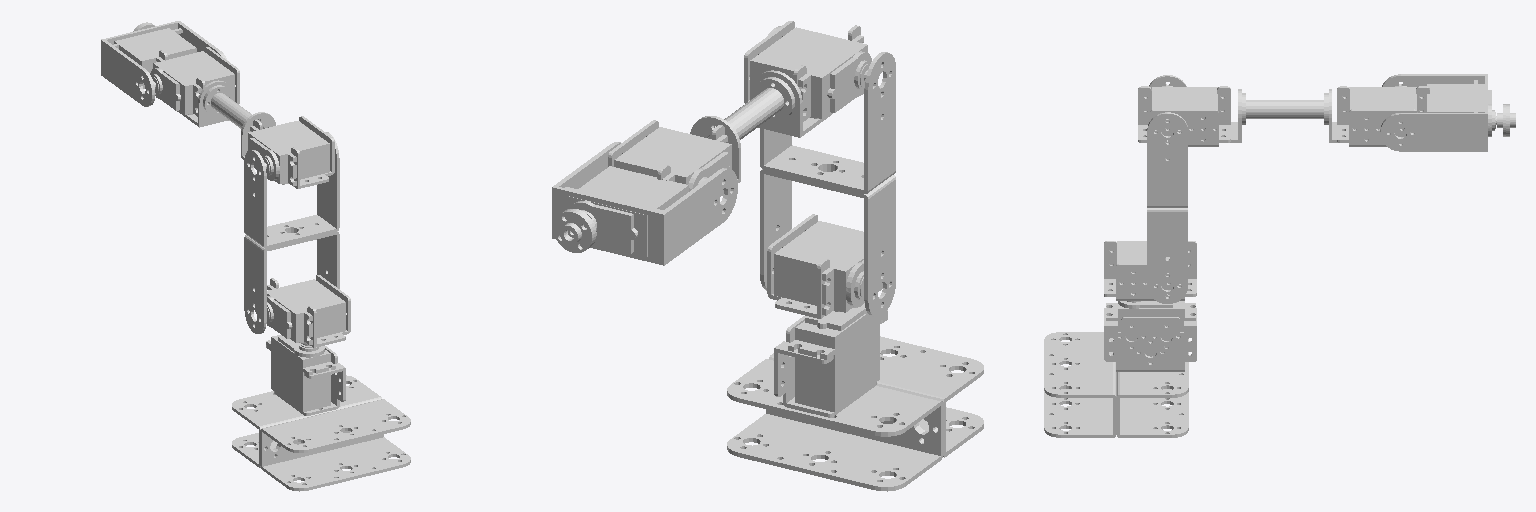
robot.urdf — arm:
<?xml version="1.0" encoding="utf-8"?>
<!-- This URDF was automatically created by SolidWorks to URDF Exporter! Originally created by Stephen Brawner (brawner@gmail.com) 
     Commit Version: 1.6.0-4-g7f85cfe  Build Version: 1.6.7995.38578
     For more information, please see http://wiki.ros.org/sw_urdf_exporter -->
<robot
  name="arm">
  <link
    name="base_link">
    <inertial>
      <origin
        xyz="-0.0013313 0.010331 0.032508"
        rpy="0 0 0" />
      <mass
        value="0.078611" />
      <inertia
        ixx="2.5382E-05"
        ixy="-9.2684E-10"
        ixz="-1.3671E-07"
        iyy="3.9098E-05"
        iyz="1.6308E-07"
        izz="4.1651E-05" />
    </inertial>
    <visual>
      <origin
        xyz="0 0 0"
        rpy="0 0 0" />
      <geometry>
        <mesh
          filename="package://arm/meshes/base_link.STL" />
      </geometry>
      <material
        name="">
        <color
          rgba="0.89412 0.89412 0.89412 1" />
      </material>
    </visual>
    <collision>
      <origin
        xyz="0 0 0"
        rpy="0 0 0" />
      <geometry>
        <mesh
          filename="package://arm/meshes/base_link.STL" />
      </geometry>
    </collision>
  </link>
  <link
    name="yaw_link">
    <inertial>
      <origin
        xyz="0.0027297 0.010088 0.036288"
        rpy="0 0 0" />
      <mass
        value="0.039608" />
      <inertia
        ixx="7.7348E-06"
        ixy="1.6308E-07"
        ixz="-1.3671E-07"
        iyy="6.7383E-06"
        iyz="-9.2684E-10"
        izz="1.1513E-05" />
    </inertial>
    <visual>
      <origin
        xyz="0 0 0"
        rpy="0 0 0" />
      <geometry>
        <mesh
          filename="package://arm/meshes/yaw_link.STL" />
      </geometry>
      <material
        name="">
        <color
          rgba="0.89412 0.89412 0.89412 1" />
      </material>
    </visual>
    <collision>
      <origin
        xyz="0 0 0"
        rpy="0 0 0" />
      <geometry>
        <mesh
          filename="package://arm/meshes/yaw_link.STL" />
      </geometry>
    </collision>
  </link>
  <joint
    name="yaw_joint"
    type="revolute">
    <origin
      xyz="-0.00354 0.010685 0.055285"
      rpy="0 0 0" />
    <parent
      link="base_link" />
    <child
      link="yaw_link" />
    <axis
      xyz="0 0 1" />
    <limit
      lower="-15708"
      upper="15708"
      effort="0"
      velocity="0" />
  </joint>
  <link
    name="shoulder_link">
    <inertial>
      <origin
        xyz="-8.3267E-17 -0.05192 -0.000785"
        rpy="0 0 0" />
      <mass
        value="0.016446" />
      <inertia
        ixx="1.605E-05"
        ixy="2.0565E-21"
        ixz="-1.0771E-20"
        iyy="1.0503E-05"
        iyz="1.9089E-21"
        izz="7.3297E-06" />
    </inertial>
    <visual>
      <origin
        xyz="0 0 0"
        rpy="0 0 0" />
      <geometry>
        <mesh
          filename="package://arm/meshes/shoulder_link.STL" />
      </geometry>
      <material
        name="">
        <color
          rgba="0.89412 0.89412 0.89412 1" />
      </material>
    </visual>
    <collision>
      <origin
        xyz="0 0 0"
        rpy="0 0 0" />
      <geometry>
        <mesh
          filename="package://arm/meshes/shoulder_link.STL" />
      </geometry>
    </collision>
  </link>
  <joint
    name="shoulder_joint"
    type="revolute">
    <origin
      xyz="-0.001635 0.020575 0.037305"
      rpy="-1.5708 0 1.5708" />
    <parent
      link="yaw_link" />
    <child
      link="shoulder_link" />
    <axis
      xyz="0 0 -1" />
    <limit
      lower="-15708"
      upper="15708"
      effort="0"
      velocity="0" />
  </joint>
  <link
    name="elbow_link">
    <inertial>
      <origin
        xyz="0.071235 0.00096414 -0.0040335"
        rpy="0 0 0" />
      <mass
        value="0.090151" />
      <inertia
        ixx="1.4274E-05"
        ixy="1.8537E-09"
        ixz="2.8445E-09"
        iyy="2.6068E-05"
        iyz="-2.7343E-07"
        izz="1.8605E-05" />
    </inertial>
    <visual>
      <origin
        xyz="0 0 0"
        rpy="0 0 0" />
      <geometry>
        <mesh
          filename="package://arm/meshes/elbow_link.STL" />
      </geometry>
      <material
        name="">
        <color
          rgba="0.89412 0.89412 0.89412 1" />
      </material>
    </visual>
    <collision>
      <origin
        xyz="0 0 0"
        rpy="0 0 0" />
      <geometry>
        <mesh
          filename="package://arm/meshes/elbow_link.STL" />
      </geometry>
    </collision>
  </link>
  <joint
    name="elbow_joint"
    type="revolute">
    <origin
      xyz="0 -0.10384 0"
      rpy="0 0 0" />
    <parent
      link="shoulder_link" />
    <child
      link="elbow_link" />
    <axis
      xyz="0 0 1" />
    <limit
      lower="-15708"
      upper="15708"
      effort="0"
      velocity="0" />
  </joint>
  <link
    name="wrist_link">
    <inertial>
      <origin
        xyz="0.03463 5.5874E-05 -0.0018294"
        rpy="0 0 0" />
      <mass
        value="0.042624" />
      <inertia
        ixx="1.267E-05"
        ixy="1.3572E-21"
        ixz="1.6451E-07"
        iyy="1.8662E-05"
        iyz="2.4668E-20"
        izz="9.2563E-06" />
    </inertial>
    <visual>
      <origin
        xyz="0 0 0"
        rpy="0 0 0" />
      <geometry>
        <mesh
          filename="package://arm/meshes/wrist_link.STL" />
      </geometry>
      <material
        name="">
        <color
          rgba="0.89412 0.89412 0.89412 1" />
      </material>
    </visual>
    <collision>
      <origin
        xyz="0 0 0"
        rpy="0 0 0" />
      <geometry>
        <mesh
          filename="package://arm/meshes/wrist_link.STL" />
      </geometry>
    </collision>
  </link>
  <joint
    name="wrist_joint"
    type="revolute">
    <origin
      xyz="0.14241 0 0"
      rpy="0 0 0" />
    <parent
      link="elbow_link" />
    <child
      link="wrist_link" />
    <axis
      xyz="0 0 -1" />
    <limit
      lower="-15708"
      upper="15708"
      effort="0"
      velocity="0" />
  </joint>
  <link
    name="ee_link">
    <inertial>
      <origin
        xyz="8.6736E-19 0 -0.0016598"
        rpy="0 0 0" />
      <mass
        value="0.00073898" />
      <inertia
        ixx="1.6982E-08"
        ixy="1.1107E-24"
        ixz="3.3364E-25"
        iyy="1.6982E-08"
        iyz="-4.0107E-25"
        izz="3.1225E-08" />
    </inertial>
    <visual>
      <origin
        xyz="0 0 0"
        rpy="0 0 0" />
      <geometry>
        <mesh
          filename="package://arm/meshes/ee_link.STL" />
      </geometry>
      <material
        name="">
        <color
          rgba="0.89412 0.89412 0.89412 1" />
      </material>
    </visual>
    <collision>
      <origin
        xyz="0 0 0"
        rpy="0 0 0" />
      <geometry>
        <mesh
          filename="package://arm/meshes/ee_link.STL" />
      </geometry>
    </collision>
  </link>
  <joint
    name="ee_joint"
    type="revolute">
    <origin
      xyz="0.06449 7E-05 -0.01193"
      rpy="0 -1.5708 0" />
    <parent
      link="wrist_link" />
    <child
      link="ee_link" />
    <axis
      xyz="0 0 -1" />
    <limit
      lower="0"
      upper="0"
      effort="0"
      velocity="0" />
  </joint>
</robot>

--- Facts derived from the render (not from the file) ---
The picture shows the robot from 3 angles, left to right: view 1: azimuth 30°, elevation 25°; view 2: azimuth 150°, elevation 25°; view 3: azimuth 270°, elevation 25°; orthographic projection.
Model arm with 6 links and 5 joints (5 revolute), rooted at base_link, posed all joints at 0.
Visible links, largest first — view 1: base_link, elbow_link, shoulder_link, wrist_link, yaw_link; view 2: base_link, elbow_link, shoulder_link, wrist_link, yaw_link, ee_link; view 3: base_link, elbow_link, shoulder_link, wrist_link, yaw_link.
Link boxes in pixels (x1,y1,x2,y2): base_link: (232,335,410,491); elbow_link: (150,47,334,188); shoulder_link: (244,132,339,333); wrist_link: (101,21,227,106); yaw_link: (267,275,350,347); base_link: (727,303,983,491); elbow_link: (608,21,871,196); shoulder_link: (760,26,895,316); wrist_link: (552,142,737,265); yaw_link: (767,214,882,318); ee_link: (553,210,593,252); base_link: (1044,301,1196,437); elbow_link: (1138,86,1429,146); shoulder_link: (1147,75,1187,303); wrist_link: (1380,74,1505,151); yaw_link: (1104,241,1196,300).
Size in the robot's own frame: 0.0904 by 0.2877 by 0.2114 metres.
6 mesh visuals loaded from 6 distinct referenced files (6 binary STL).
